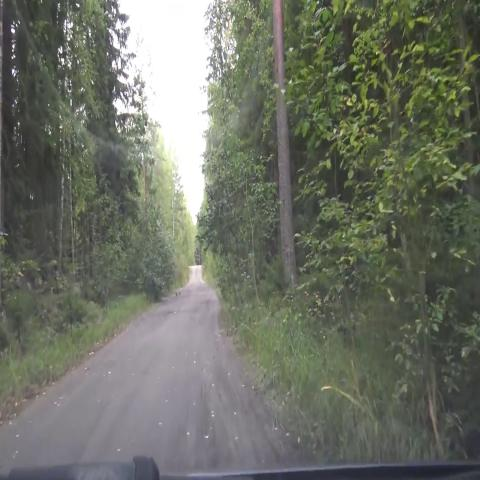pothole: (156, 302, 181, 320), (175, 282, 194, 301), (202, 297, 220, 313)
